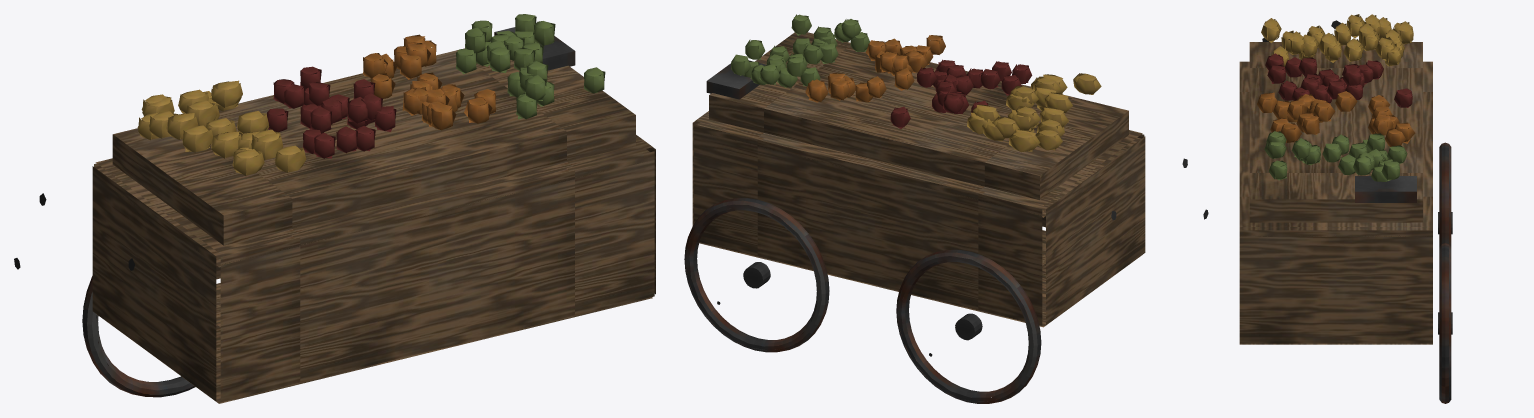
File: W09_FruitCart.glb
The picture shows the model from 3 angles, left to right: view 1: azimuth 30°, elevation 25°; view 2: azimuth 150°, elevation 25°; view 3: azimuth 270°, elevation 25°; orthographic projection. The views are drawn at different scales.
Parts seen in each view (by area): view 1: W09_FruitCart; view 2: W09_FruitCart; view 3: W09_FruitCart.
Boxes of the visible parts, x1,y1,x2,y2 form: W09_FruitCart: (14, 14, 655, 403); W09_FruitCart: (684, 14, 1208, 403); W09_FruitCart: (1239, 14, 1452, 403).
Bounding box in the file's own units: 2 × 1.11 × 1.08.
6 materials, 6 textured.
